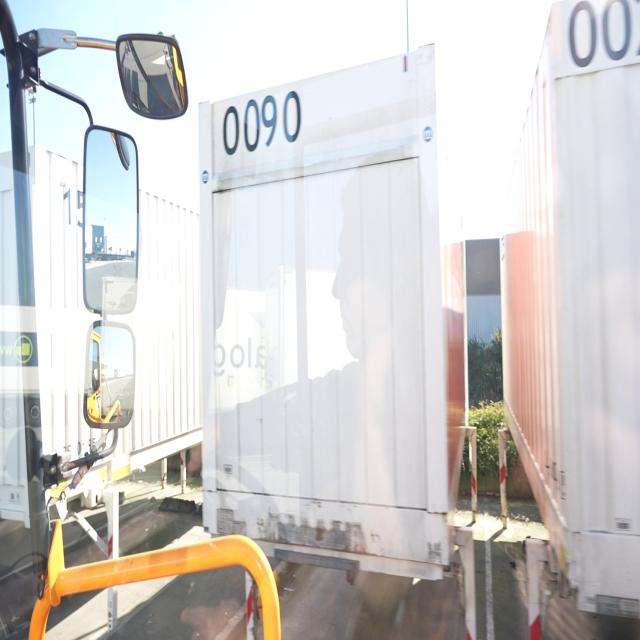Code: (216, 86, 305, 160)
